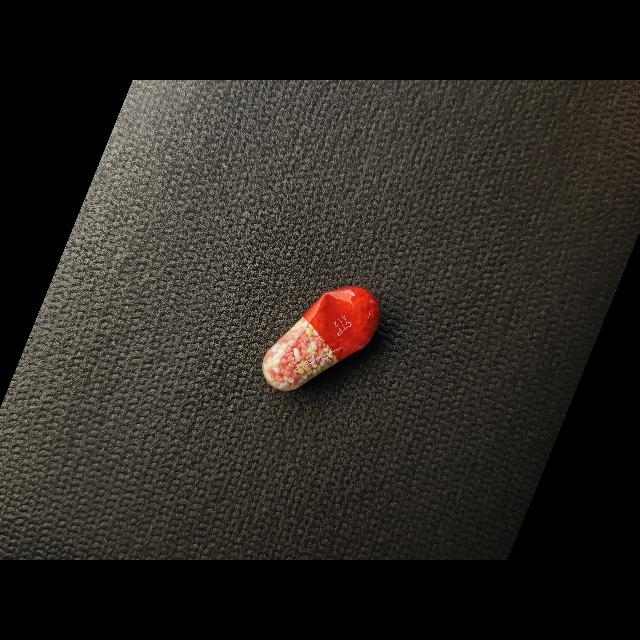Defective Capsule: (262, 286, 381, 391)
